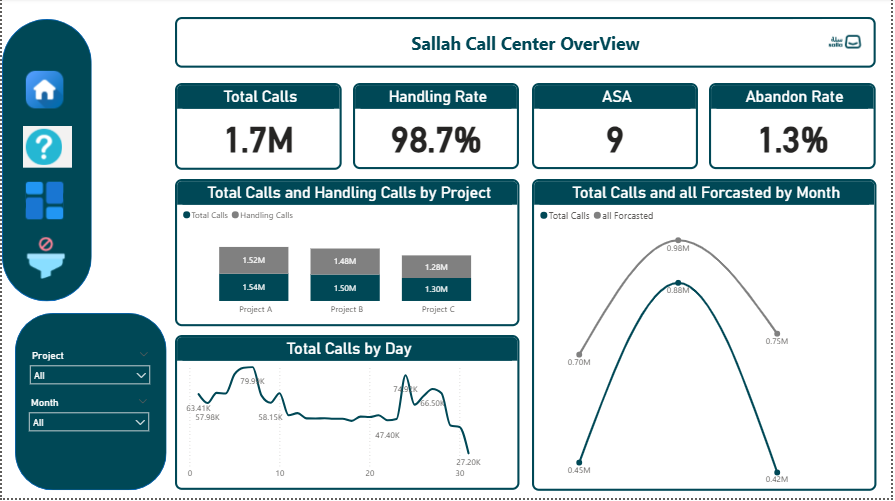

The dashboard page shown, as its layout file describes it:
{"tool":"powerbi","page":{"name":"Dashboard","canvas":[1280,720],"ordinal":1},"visuals":[{"type":"actionButton","box":[249.1,27.4,1009.4,73.4],"z":0},{"type":"actionButton","box":[1139.1,30.5,107.5,65.4],"z":1000},{"type":"card","title":"Total Calls","fields":{"Values":["calender.Total Calls"]},"box":[248.4,122,239.7,124.9],"z":2000},{"type":"card","title":"Handling Rate","fields":{"Values":["Apr.Handling Rate"]},"box":[505.6,122.6,238.5,124.3],"z":3000},{"type":"card","title":"ASA","fields":{"Values":["Apr.all AsA"]},"box":[762.6,122.6,238.5,124.3],"z":4000},{"type":"card","title":"Abandon Rate","fields":{"Values":["Apr.Abandon Rate"]},"box":[1018,122.6,240.2,124.3],"z":5000},{"type":"columnChart","fields":{"Category":["Feb.Project"],"Y":["calender.Total Calls","Apr.Handling Calls"]},"box":[248.6,260.4,495.5,211.7],"z":6000},{"type":"lineChart","fields":{"Category":["calender.Date.Variation.Date Hierarchy.Month"],"Y":["calender.Total Calls","Apr.all Forcasted"]},"box":[762.6,260.4,495.5,448.5],"z":7000},{"type":"lineChart","fields":{"Y":["calender.Total Calls"],"Category":["calender.Date.Variation.Date Hierarchy.Day"]},"box":[248.6,485.5,495.5,223.4],"z":8000},{"type":"shape","box":[0,30.2,129.3,406.5],"z":9000},{"type":"actionButton","box":[30.2,100.8,70.6,62.2],"z":10000},{"type":"actionButton","box":[30.2,184.8,70.6,60.5],"z":11000},{"type":"actionButton","box":[30.2,260.4,70.6,62.2],"z":13000},{"type":"shape","box":[18.5,453.5,218.4,255.3],"z":14000},{"type":"actionButton","box":[28.6,339.3,72.2,68.9],"z":15000},{"type":"slicer","fields":{"Values":["Feb.Project"]},"box":[30.2,500.6,193.2,57.1],"z":16000},{"type":"slicer","fields":{"Values":["calender.Date.Variation.Date Hierarchy.Month"]},"box":[28.6,569.4,193.2,57.1],"z":17000}]}

Visuals, with their boxes in screenshot pixels (x1, y1, x2, y2), scaled from the page's 1280x720 canvas onto the 895x501 screenshot:
actionButton: [left=174, top=19, right=880, bottom=70]
actionButton: [left=796, top=21, right=872, bottom=67]
"Total Calls" card: [left=174, top=85, right=341, bottom=172]
"Handling Rate" card: [left=354, top=85, right=520, bottom=172]
"ASA" card: [left=533, top=85, right=700, bottom=172]
"Abandon Rate" card: [left=712, top=85, right=880, bottom=172]
columnChart - Feb.Project x calender.Total Calls: [left=174, top=181, right=520, bottom=329]
lineChart - calender.Date.Variation.Date Hierarchy.Month x calender.Total Calls: [left=533, top=181, right=880, bottom=493]
lineChart - calender.Total Calls x calender.Date.Variation.Date Hierarchy.Day: [left=174, top=338, right=520, bottom=493]
shape: [left=0, top=21, right=90, bottom=304]
actionButton: [left=21, top=70, right=70, bottom=113]
actionButton: [left=21, top=129, right=70, bottom=171]
actionButton: [left=21, top=181, right=70, bottom=224]
shape: [left=13, top=316, right=166, bottom=493]
actionButton: [left=20, top=236, right=70, bottom=284]
slicer - Feb.Project: [left=21, top=348, right=156, bottom=388]
slicer - calender.Date.Variation.Date Hierarchy.Month: [left=20, top=396, right=155, bottom=436]
